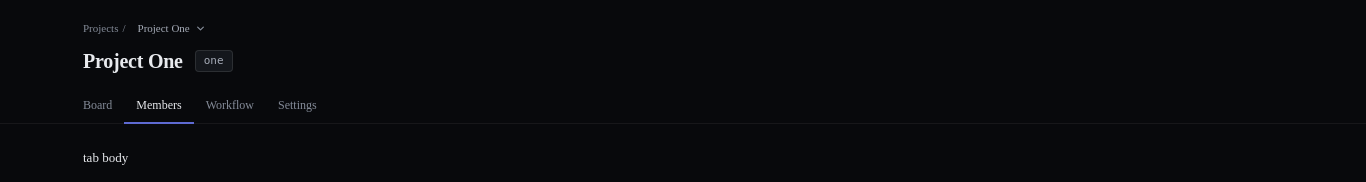
Test case: hub band project picker › lists the project's team's projects, shared ones marked
The image size is (1366, 182).
Click the button with aria-label "Switch project, current: Project One": click(172, 28) left=130, top=16, right=215, bottom=40
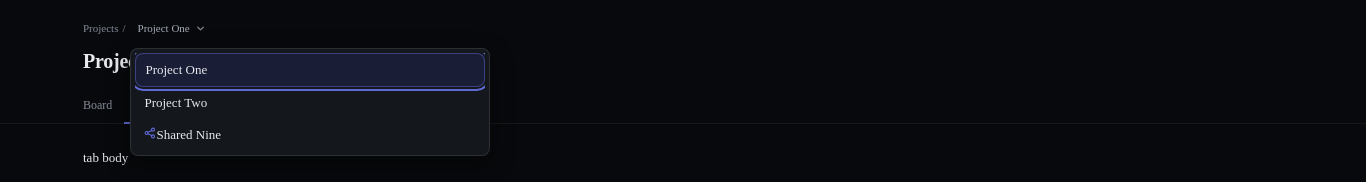
Expected: the menu items read "Project One", "Project Two", "Shared Nine", in this order, left=134, top=53, right=484, bottom=87; left=134, top=87, right=484, bottom=119; left=134, top=119, right=484, bottom=151
Expected: the picture named "shared via project invite" is shown, left=144, top=127, right=156, bottom=139
